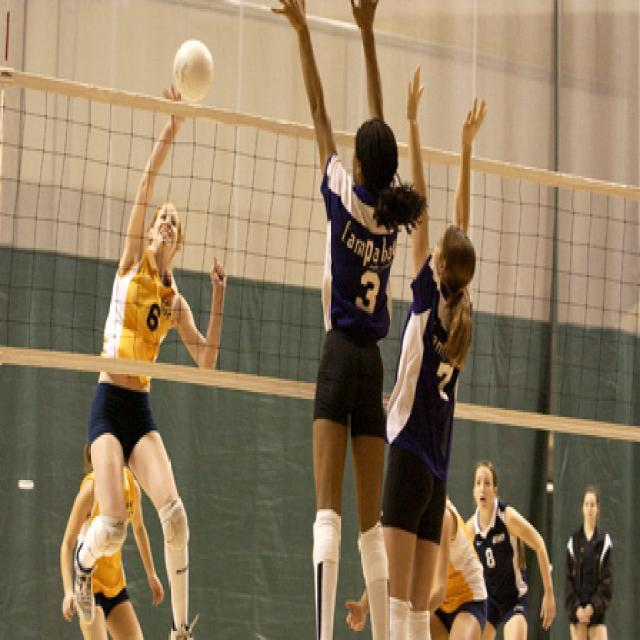volleyball: (173, 39, 213, 99)
